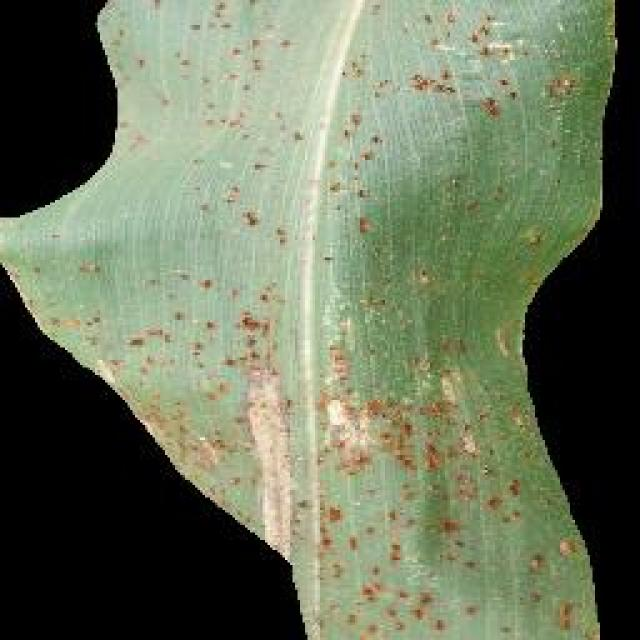Corn Common Rust: (215, 78, 588, 607)
